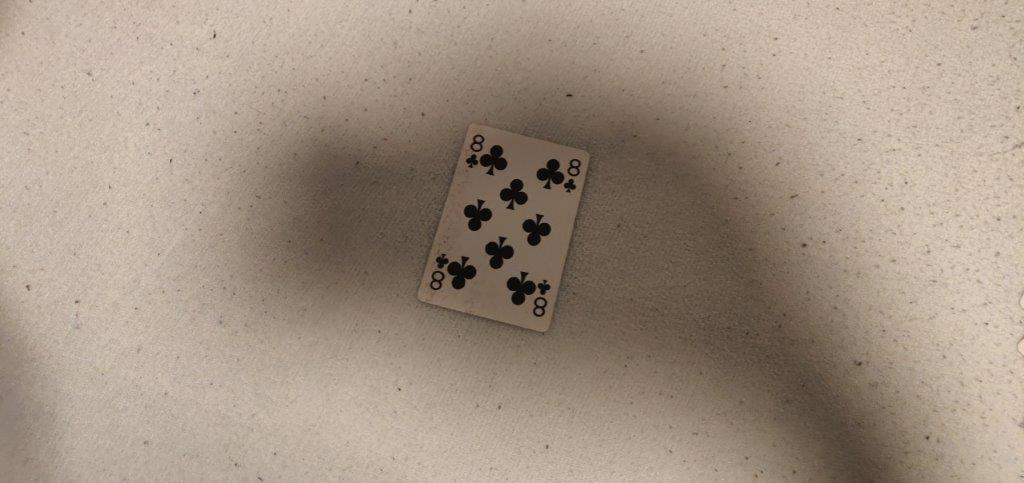8C: (561, 158, 589, 196), (461, 131, 486, 168)
